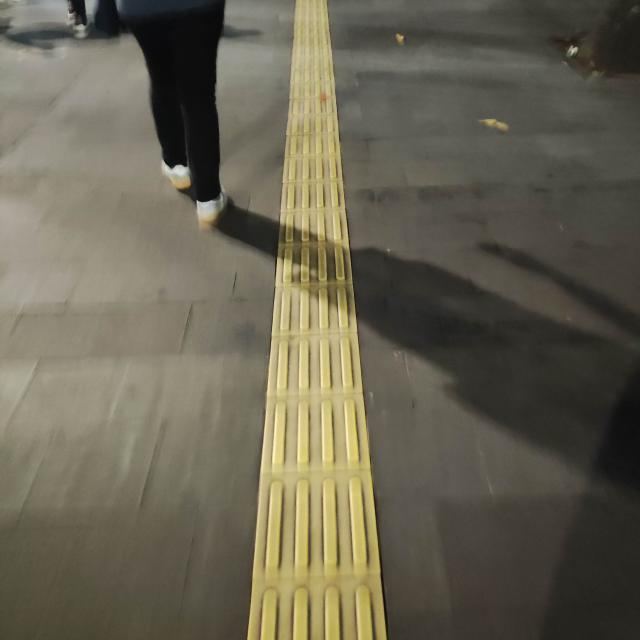lurus: (260, 2, 379, 640)
